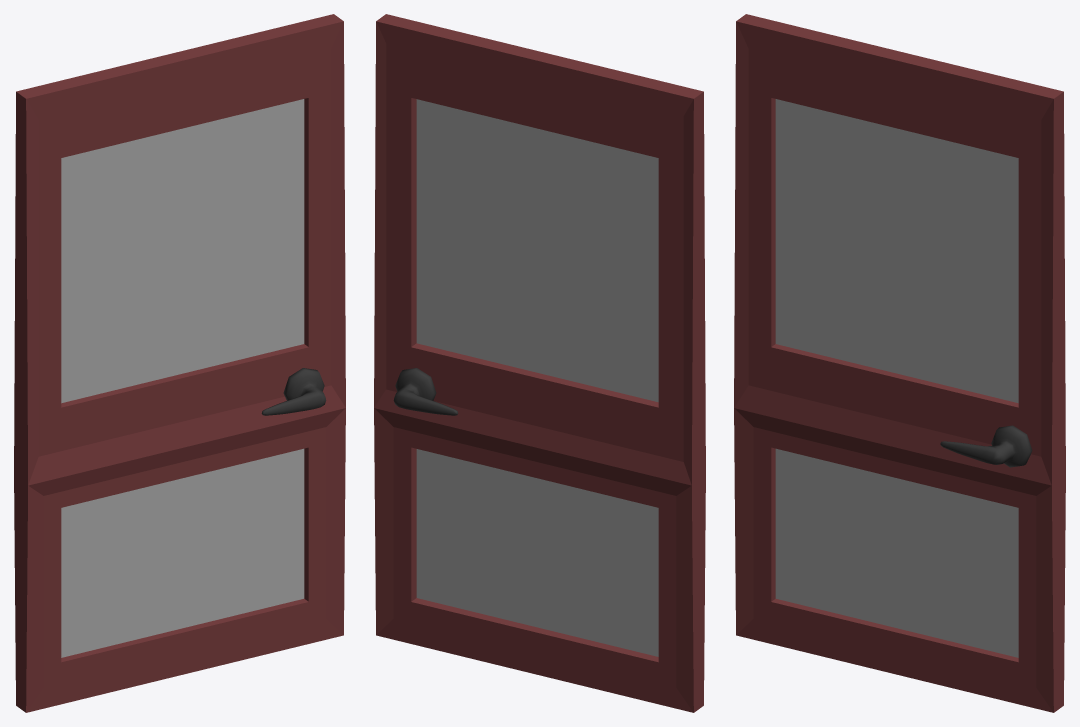
The model's file is doorroom.fbx.
3 renders of one model, left to right at view 1: azimuth 30°, elevation 25°; view 2: azimuth 150°, elevation 25°; view 3: azimuth 330°, elevation 25°, orthographic.
Visible parts, largest first — view 1: Cube; view 2: Cube; view 3: Cube.
Part boxes in pixels (x1,y1,x2,y2): Cube: [14, 14, 345, 712]; Cube: [374, 14, 705, 712]; Cube: [734, 14, 1065, 712].
Size of the model in its own units: 876 by 1617 by 234.
